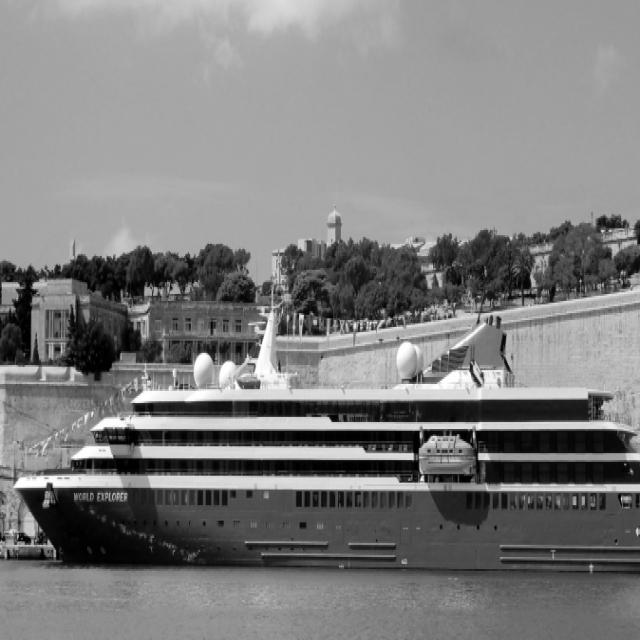cruises: (11, 276, 640, 587)
